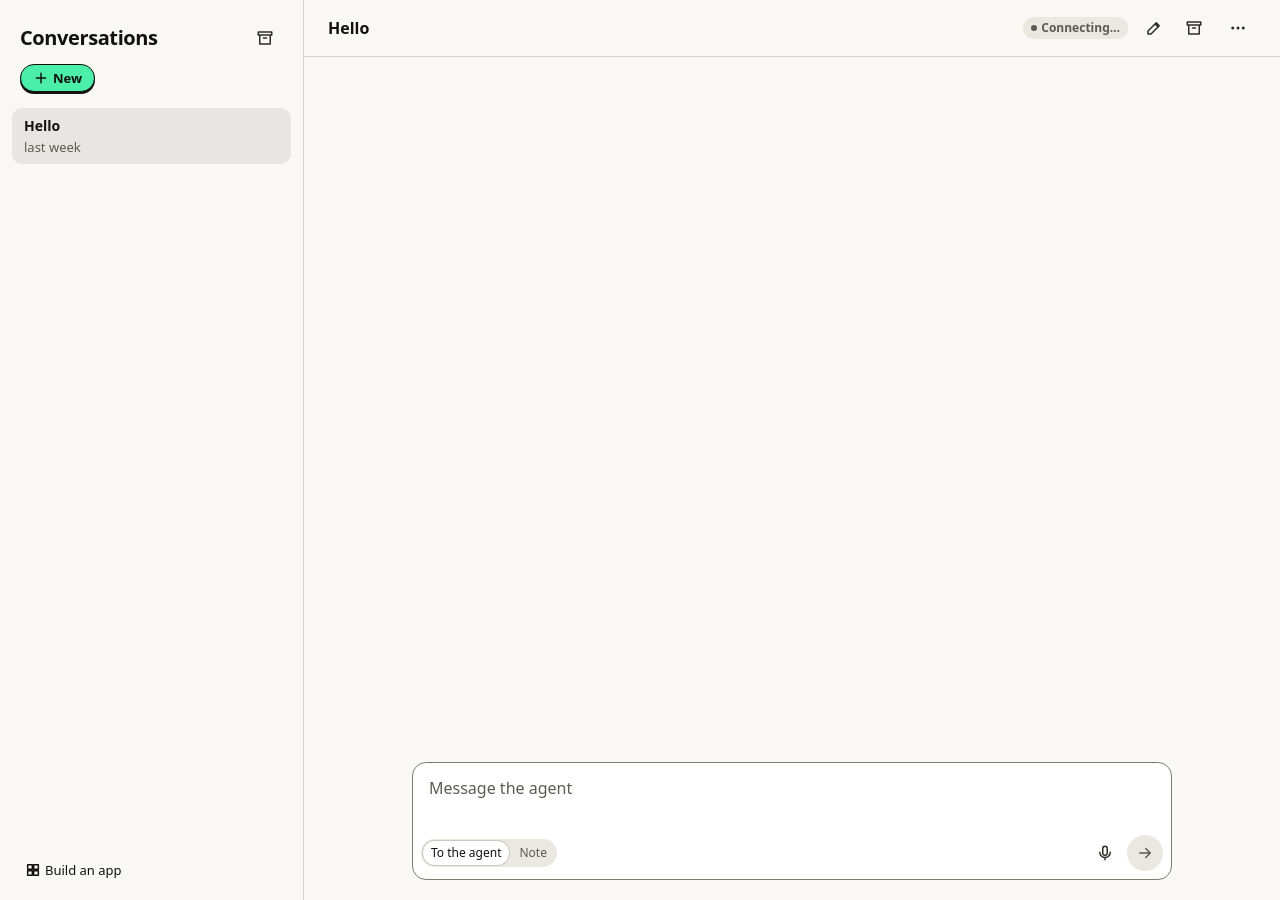
Test: a recording can be cancelled, and nothing is sent
The width and height of the screenshot is (1280, 900).
What coordinates should you click on to do the following:
click the button named "Dictate"
I would click on:
 (1105, 853)
Its box is x1=1087 y1=835 x2=1123 y2=871.
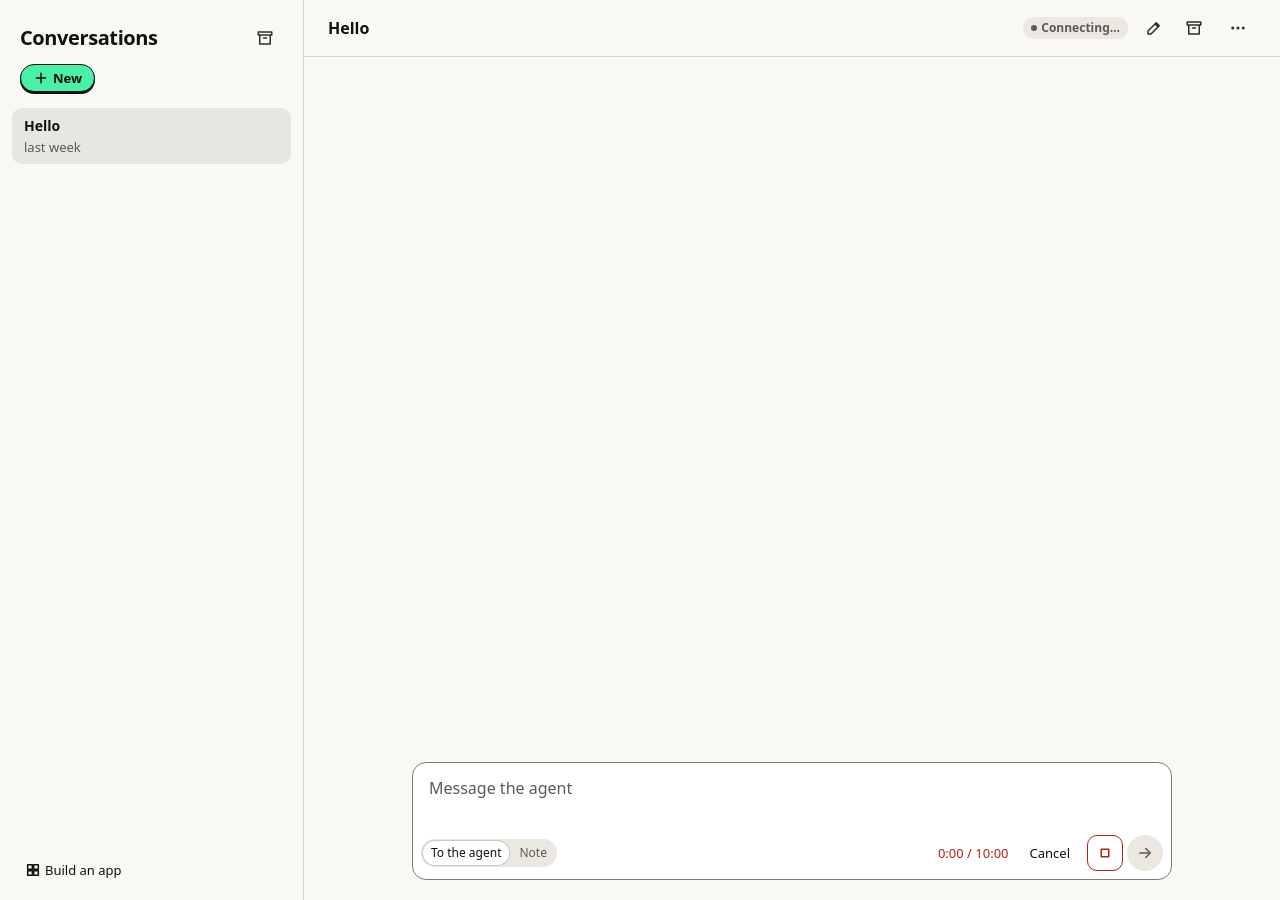
What coordinates should you click on to do the following:
click the button "Cancel"
I would click on:
 (1050, 853)
Its box is x1=1016 y1=839 x2=1083 y2=867.
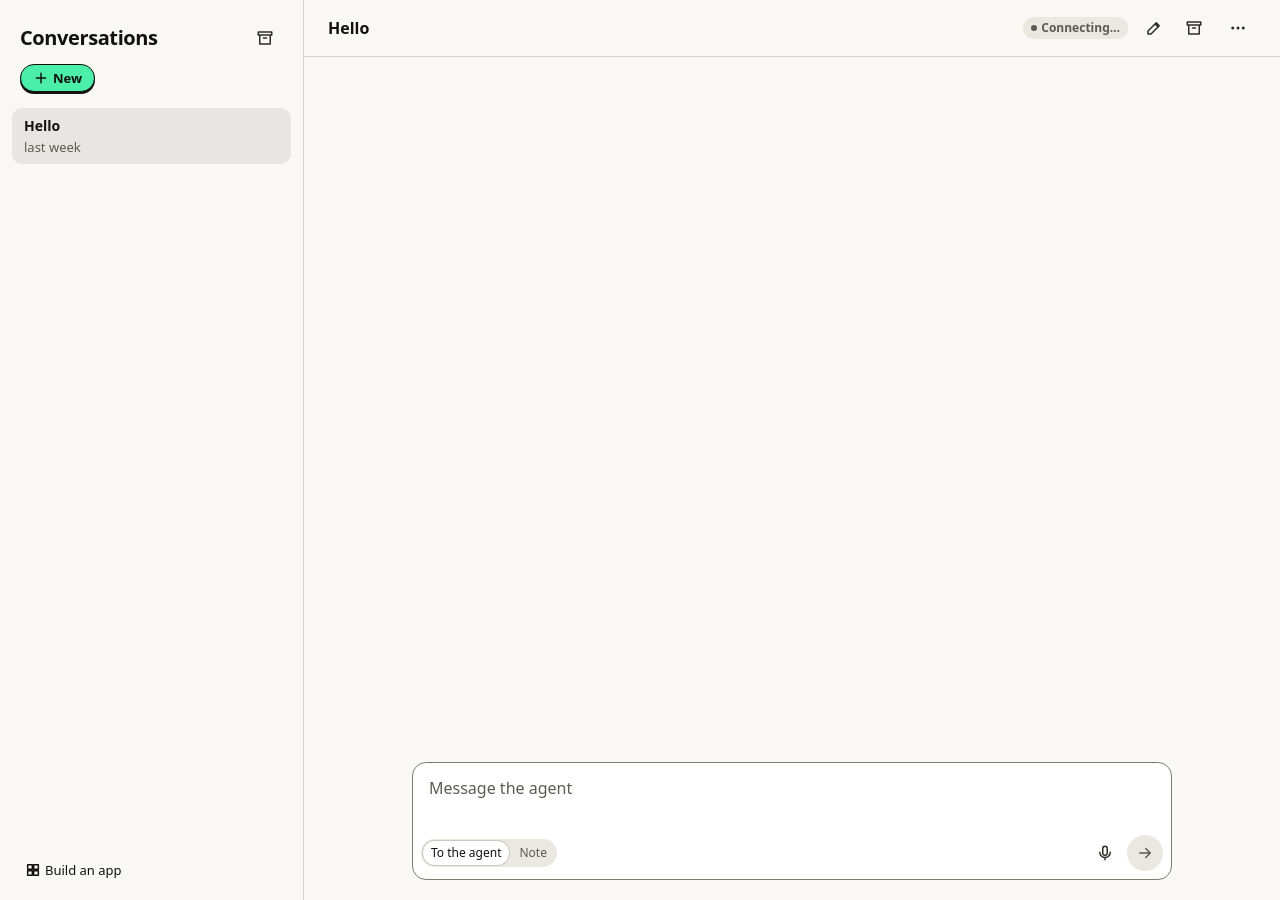
expect the button named "Dictate" is shown: met, box x1=1087 y1=835 x2=1123 y2=871
